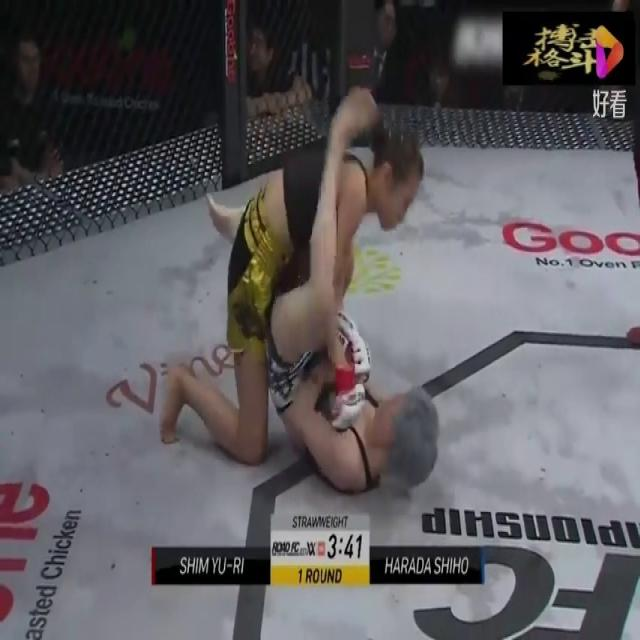fight: (203, 82, 439, 496), (159, 120, 427, 467)
